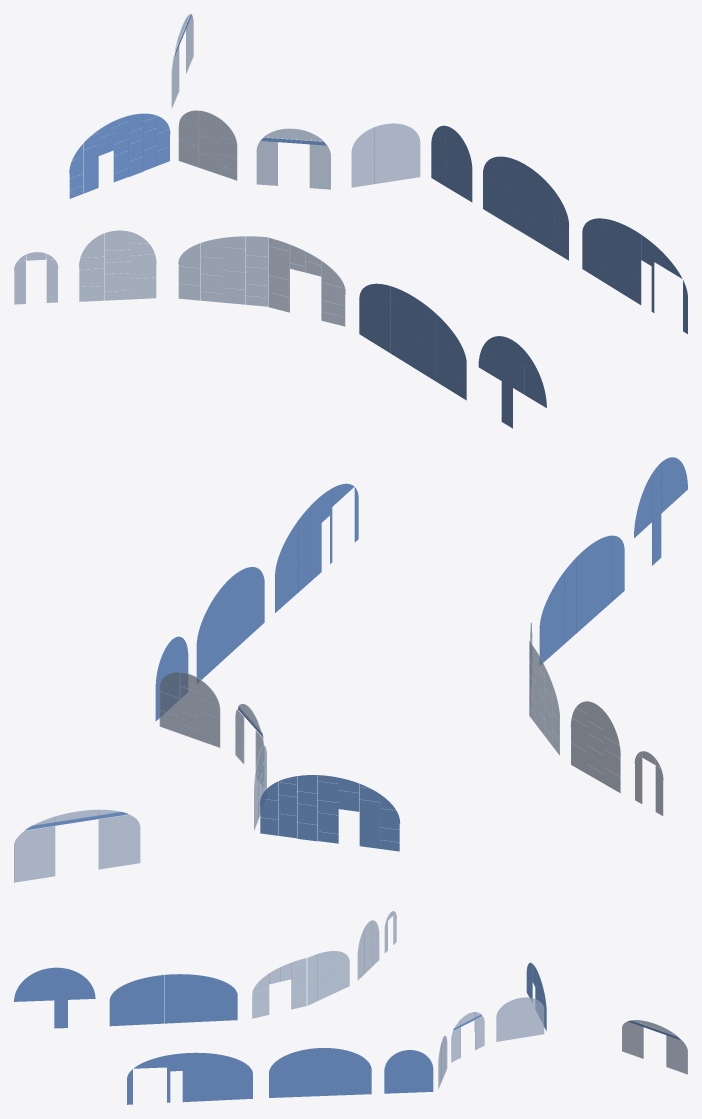
File: 1253_AR_AFP_BASE BUILDING_MASTER_malfredMXUZG_1AdpURx9v8fxrfh$v1S7UQ-LEVEL GROUND (EX STATION ENTRY)_IfcPlate.dae
3 views of the same model, one above another, from view 1: azimuth 30°, elevation 25°; view 2: azimuth 150°, elevation 25°; view 3: azimuth 270°, elevation 25° (orthographic). The views are drawn at different scales.
Visible parts, largest first — view 1: 1OMqAdOL1FuQMJsDXQRQR8, 3Myc7jVgT5IhLdKqtj6gb1, 3Myc7jVgT5IhLdKqtj6e9Y, 3Myc7jVgT5IhLdKqtj6esB; view 2: 0LAQZyofbB5vGTfJXxvgF$, 0LAQZyofbB5vGTfJXxvg8K, 1OMqAdOL1FuQMJsDXQRQR8, 3Myc7jVgT5IhLdKqtj6gb1; view 3: 0LAQZyofbB5vGTfJXxvg8K, 0LAQZyofbB5vGTfJXxvgF$, 3Myc7jVgT5IhLdKqtj6rEB, 3Myc7jVgT5IhLdKqtj6qfg, 3Myc7jVgT5IhLdKqtj6n90, 3Myc7jVgT5IhLdKqtj6e9Y, 1fJOy7nDnFoBfduyKiRlxs, 3Myc7jVgT5IhLdKqtj6r9v, 3Myc7jVgT5IhLdKqtj6n_E, 3Myc7jVgT5IhLdKqtj6nZg.
Part boxes in pixels (<box>): 1OMqAdOL1FuQMJsDXQRQR8: <box>83,145,98,193</box>; 3Myc7jVgT5IhLdKqtj6gb1: <box>351,157,374,187</box>; 3Myc7jVgT5IhLdKqtj6e9Y: <box>268,246,289,280</box>; 3Myc7jVgT5IhLdKqtj6esB: <box>130,254,156,278</box>; 0LAQZyofbB5vGTfJXxvgF$: <box>98,814,140,869</box>; 0LAQZyofbB5vGTfJXxvg8K: <box>14,826,55,882</box>; 1OMqAdOL1FuQMJsDXQRQR8: <box>359,799,380,848</box>; 3Myc7jVgT5IhLdKqtj6gb1: <box>199,712,220,747</box>; 0LAQZyofbB5vGTfJXxvg8K: <box>666,1035,687,1074</box>; 0LAQZyofbB5vGTfJXxvgF$: <box>622,1021,643,1058</box>; 3Myc7jVgT5IhLdKqtj6rEB: <box>146,980,164,1000</box>; 3Myc7jVgT5IhLdKqtj6qfg: <box>164,1003,182,1023</box>; 3Myc7jVgT5IhLdKqtj6n90: <box>182,1082,199,1102</box>; 3Myc7jVgT5IhLdKqtj6e9Y: <box>291,963,306,987</box>; 1fJOy7nDnFoBfduyKiRlxs: <box>199,1053,217,1070</box>; 3Myc7jVgT5IhLdKqtj6r9v: <box>182,991,200,1007</box>; 3Myc7jVgT5IhLdKqtj6n_E: <box>217,1065,235,1081</box>; 3Myc7jVgT5IhLdKqtj6nZg: <box>199,1077,217,1094</box>.
Size of the model in its own units: 25.8 by 45.7 by 4.54.
